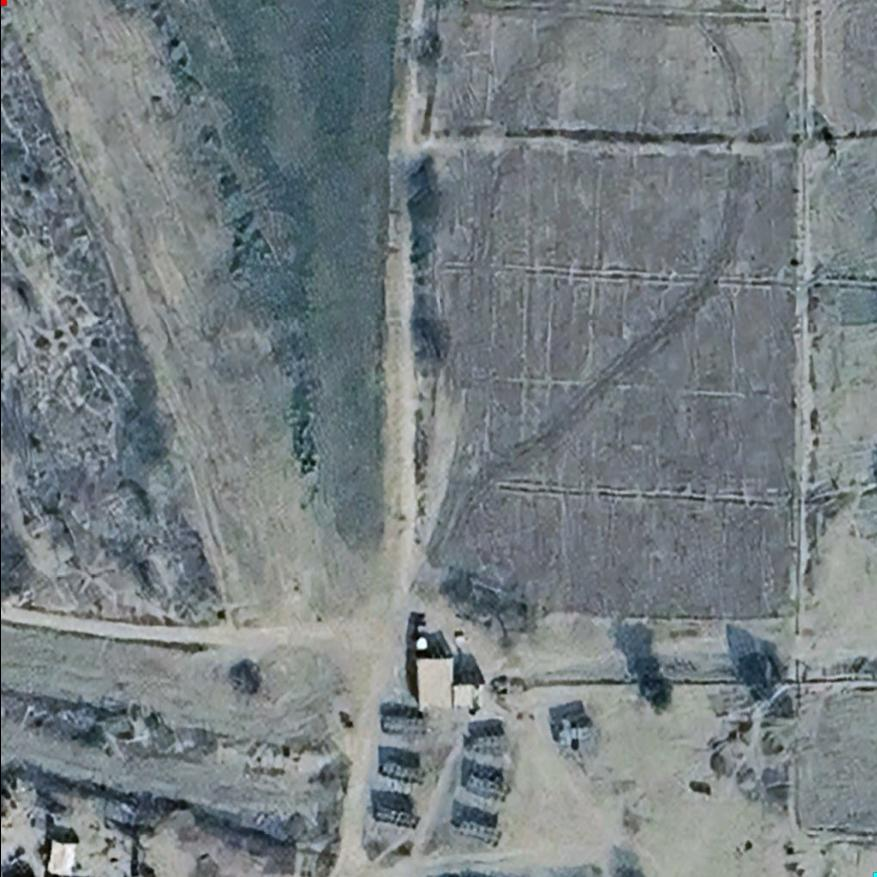Solarpanel: (456, 766, 512, 806), (369, 798, 424, 834), (446, 815, 504, 849), (375, 755, 429, 787), (378, 709, 430, 736), (468, 730, 514, 757), (554, 721, 594, 749)
